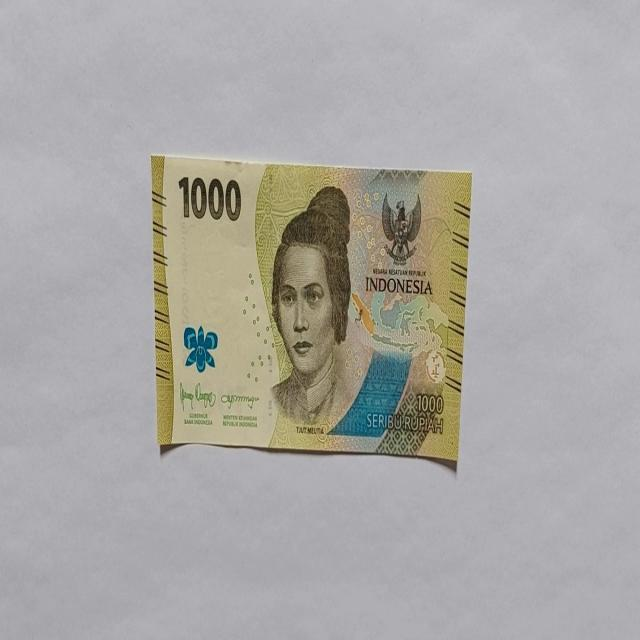seribu rupiah kertas: (150, 153, 472, 470)
